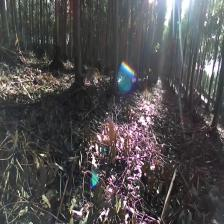trunk: (71, 0, 85, 105), (111, 0, 119, 88), (210, 82, 224, 131), (53, 0, 62, 65)
